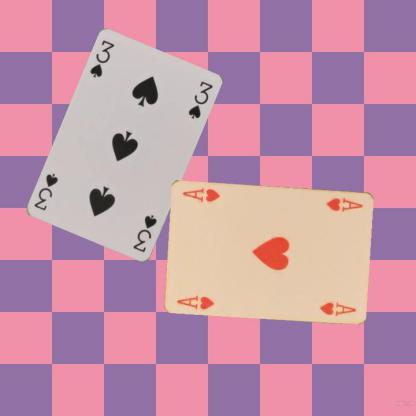3s: (87, 38, 116, 80), (131, 212, 158, 254)
Ah: (174, 292, 216, 311), (324, 194, 364, 212)
